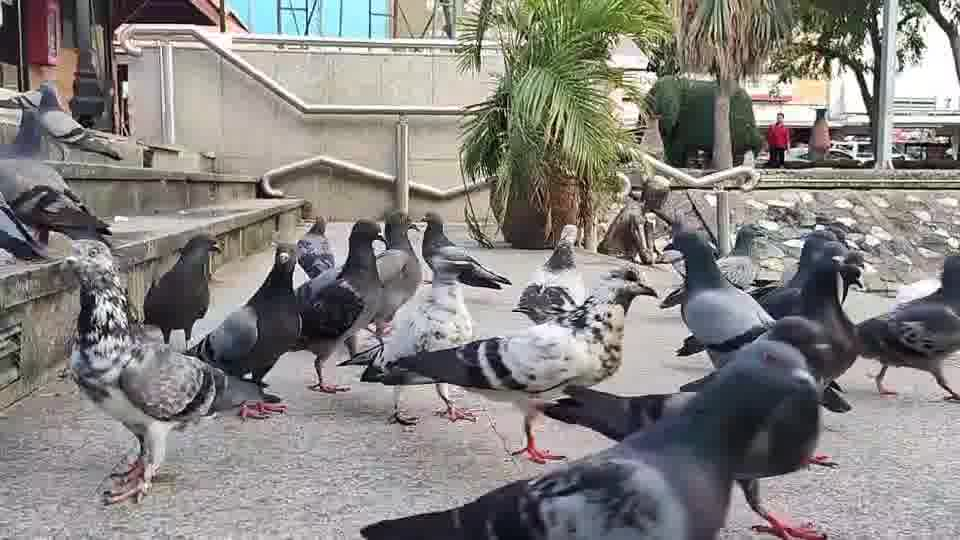Pigeon: (358, 340, 831, 539), (377, 272, 658, 465), (57, 237, 224, 505), (184, 242, 305, 411), (658, 229, 777, 369), (855, 252, 959, 401), (0, 82, 125, 161), (140, 233, 221, 349), (0, 182, 112, 260), (0, 190, 49, 263), (541, 223, 578, 274)
